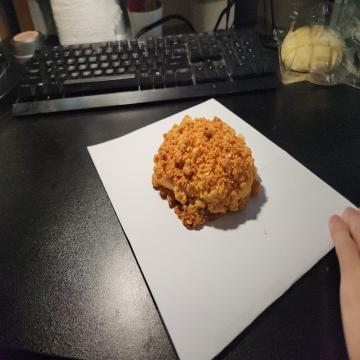soboru_bread: (150, 114, 262, 234)
